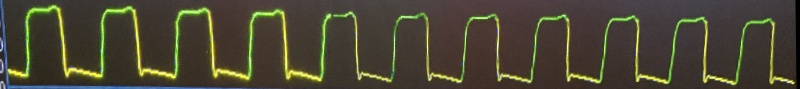normal_pressure: (2, 6, 793, 89)
